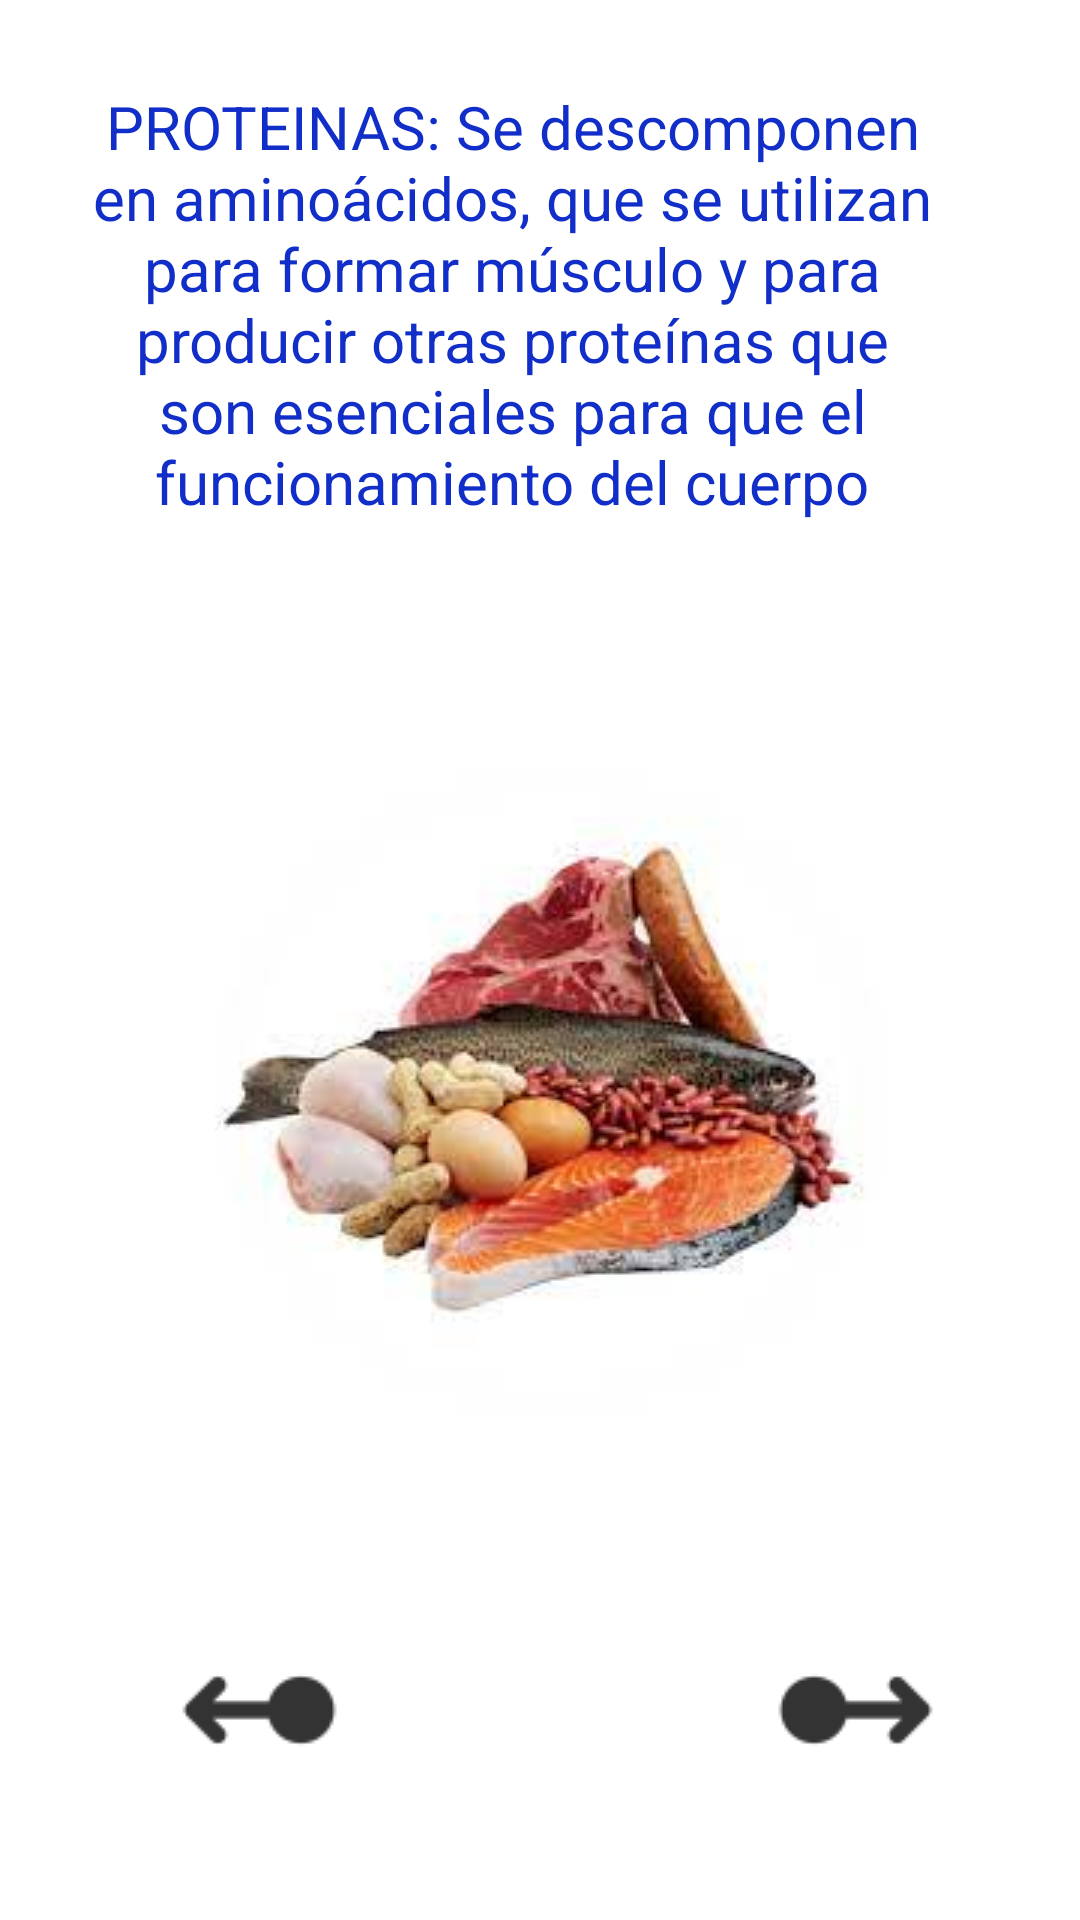

Locate icon controls on the screen. Image size 1080×1920, boxes as (x1, y1, x2, y2).
iconder: (778, 1676, 933, 1744)
iconizq: (182, 1676, 337, 1744)
